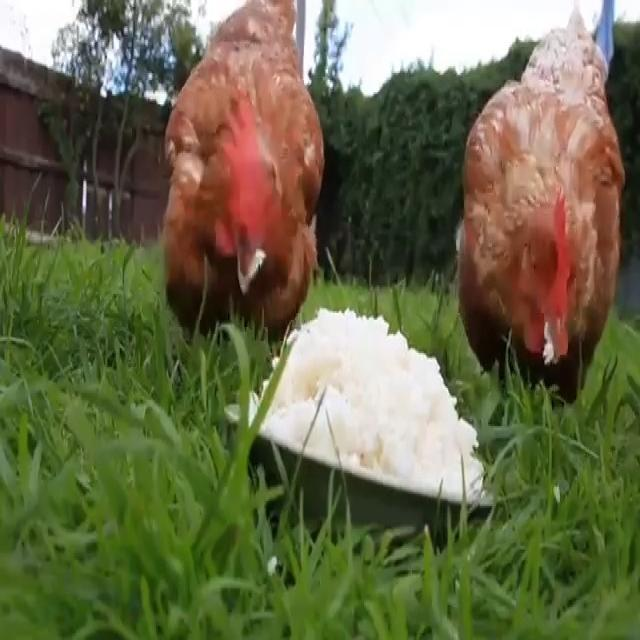feeding: (426, 2, 640, 377), (162, 4, 324, 338)
